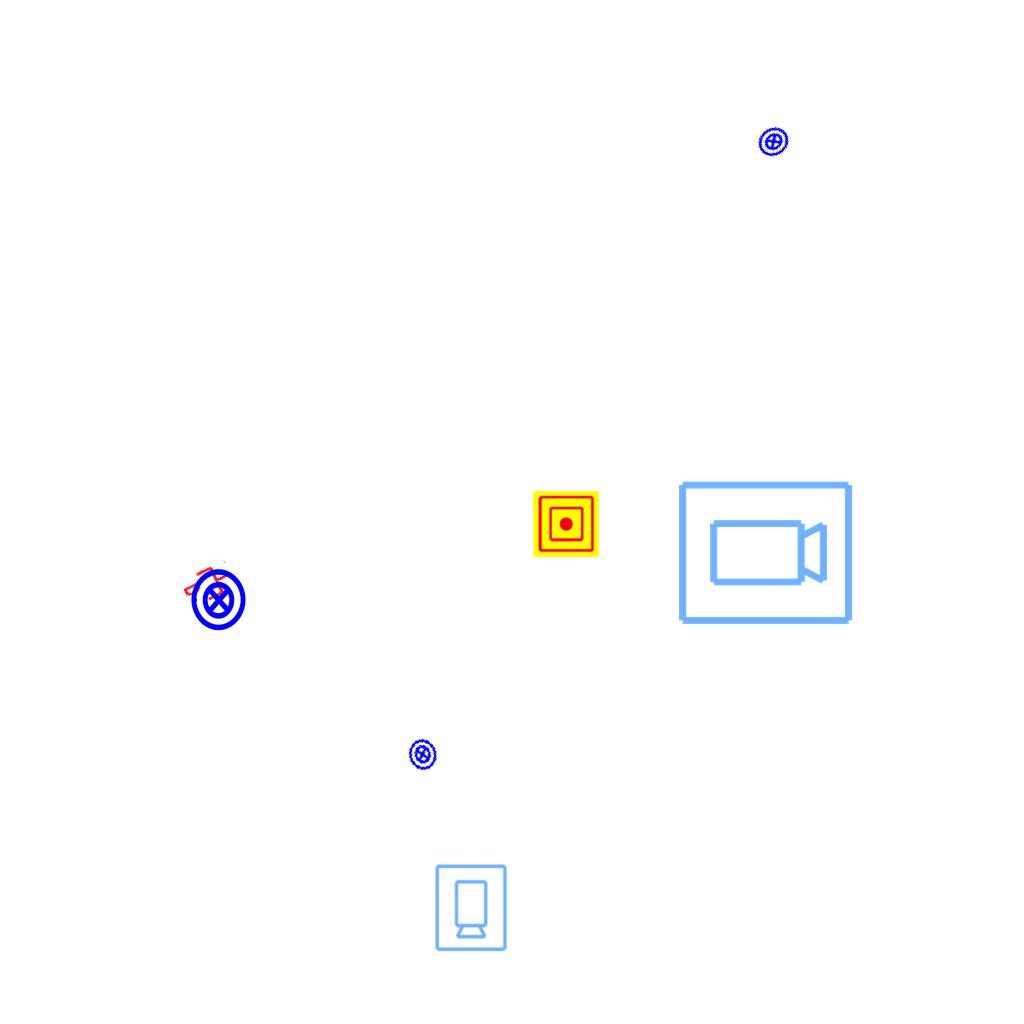Datenanschluss_einfach: (179, 557, 239, 611)
KFO_Kamera_mit_Festobjektiv: (674, 477, 856, 631), (432, 862, 509, 953)
NAM-Nichtautomatischer_Melder: (533, 491, 599, 557)
Taster_beleuchtet: (186, 567, 252, 633), (750, 118, 797, 165), (402, 734, 443, 775)
